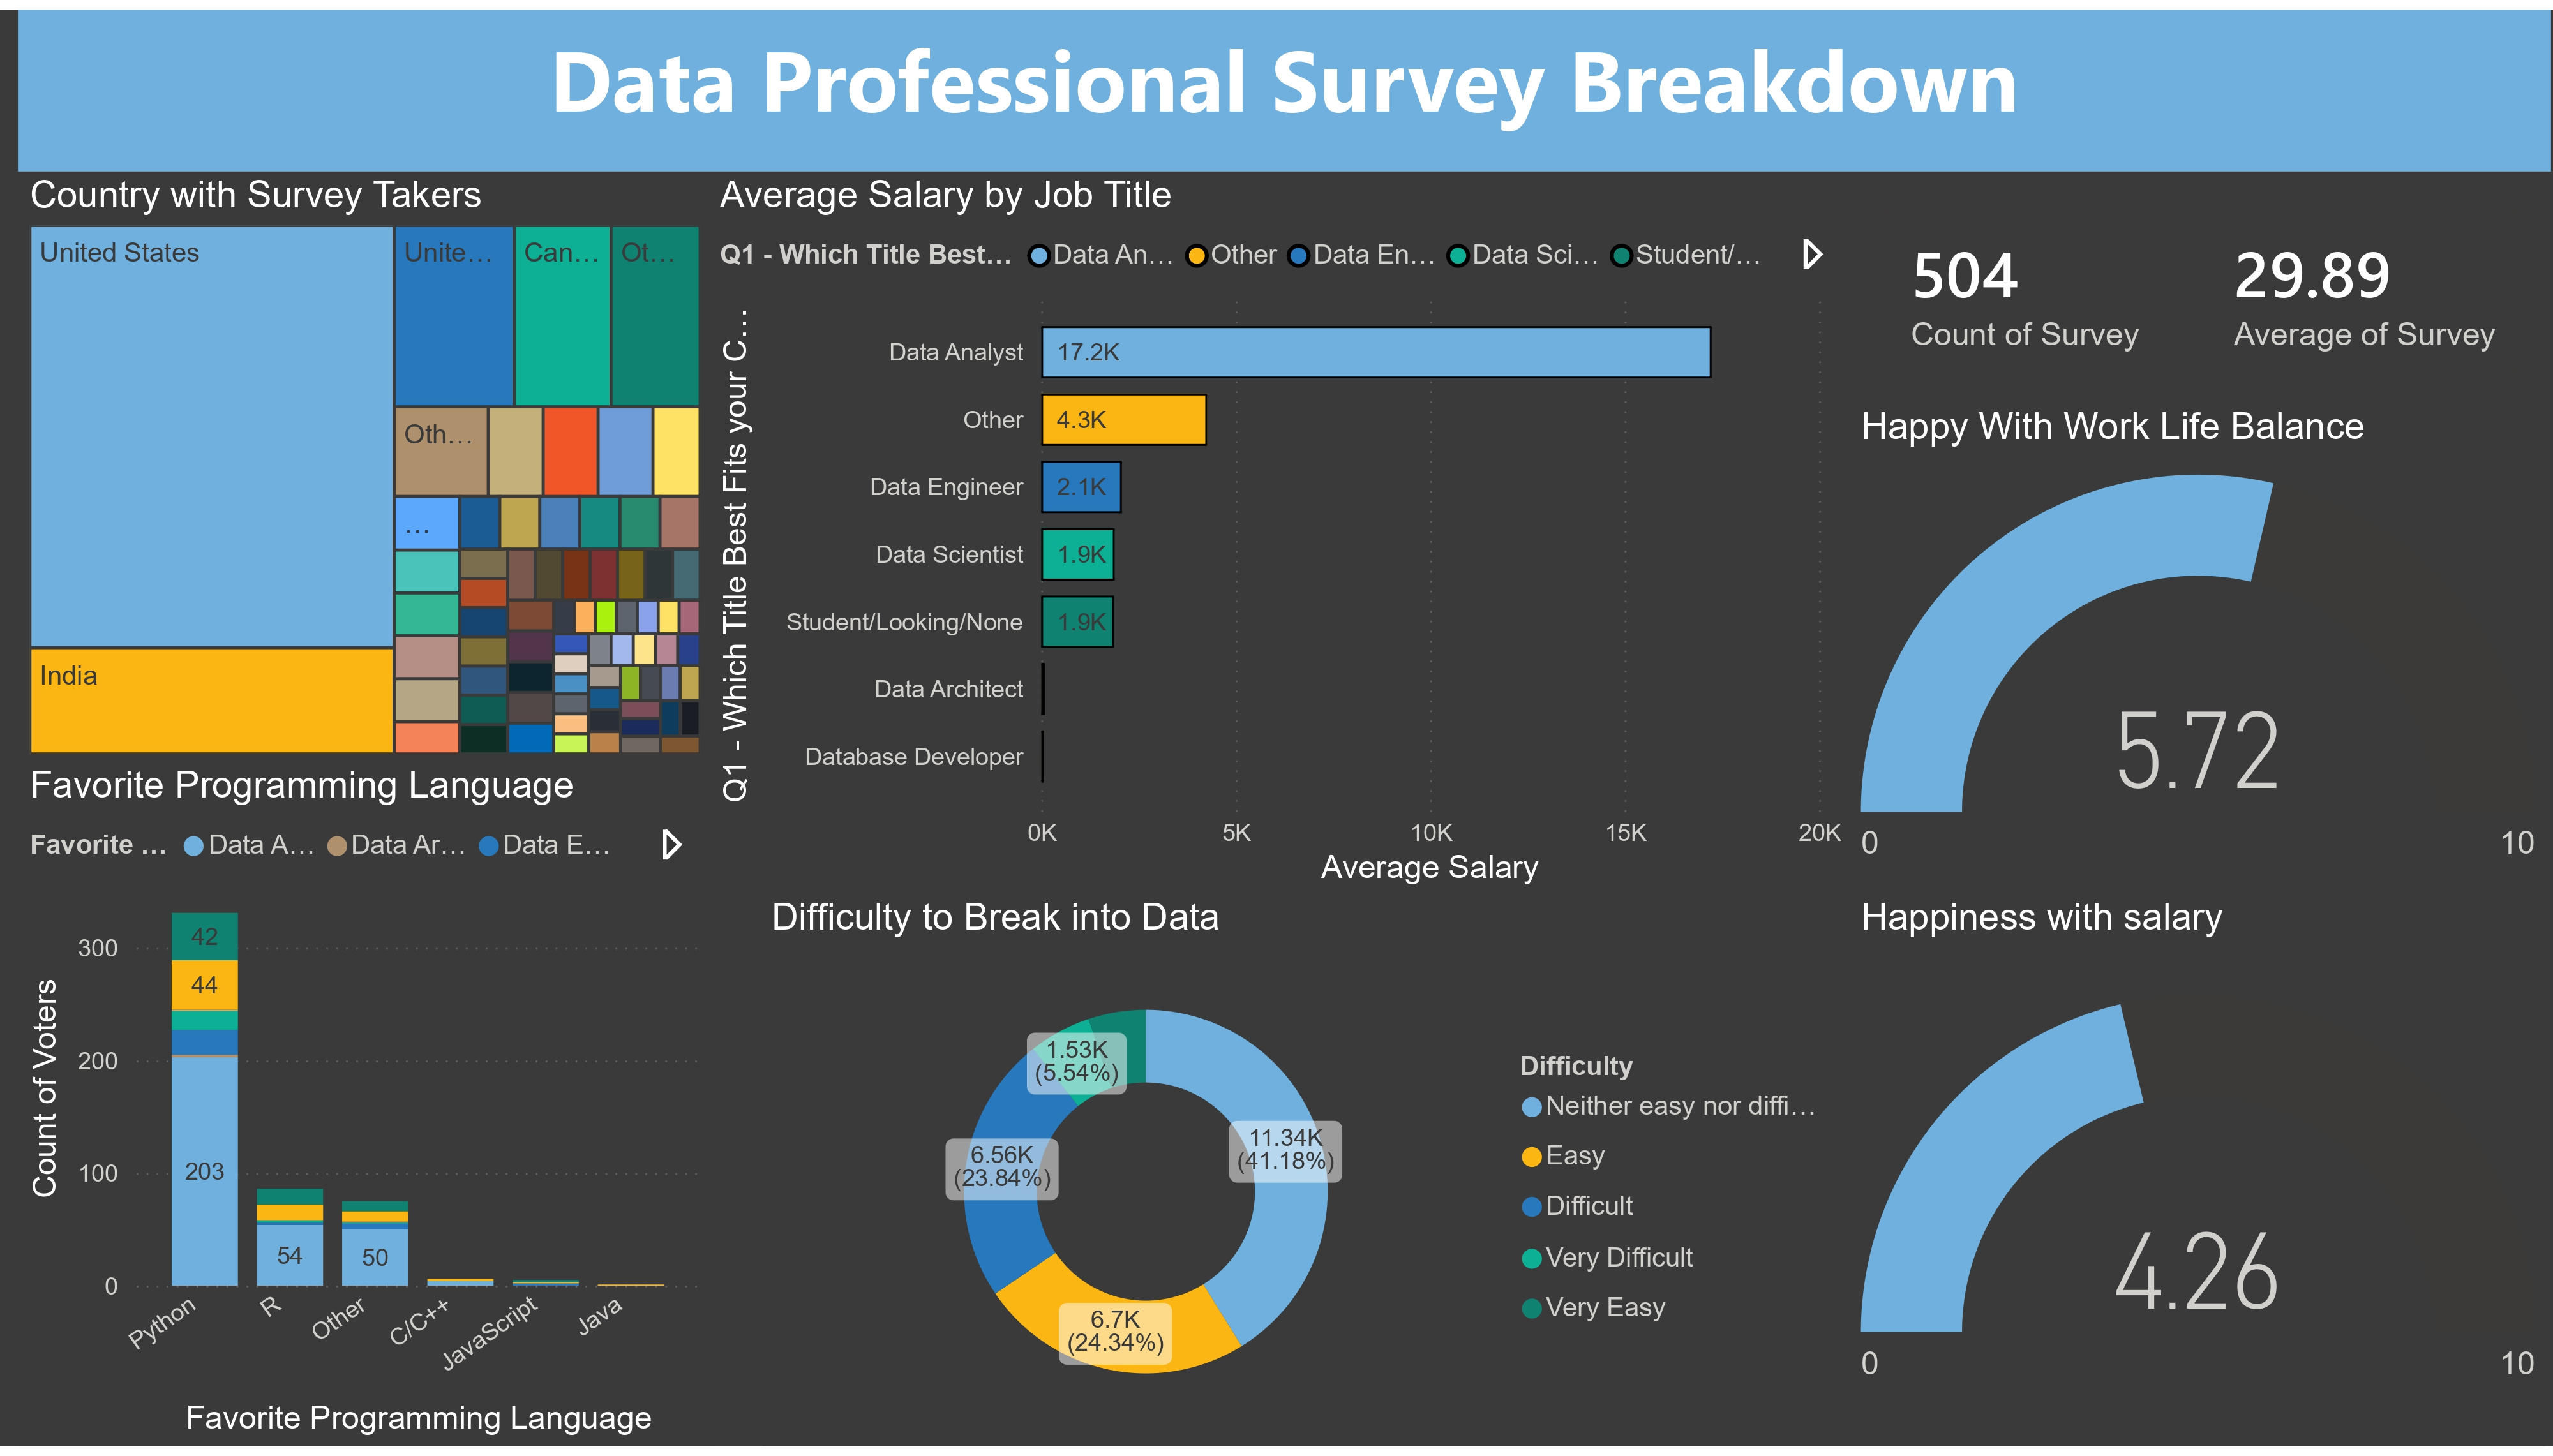

The page's visual inventory and layout, read from the dashboard file:
{"tool":"powerbi","page":{"name":"Page 1","canvas":[1280,720],"ordinal":0},"visuals":[{"type":"textbox","box":[9.4,0,1269.9,81.3],"z":0},{"type":"cardVisual","fields":{"Data":["CountNonNull(Data Professional Survey.Unique ID)"]},"box":[928,82,176,116],"z":1000},{"type":"cardVisual","fields":{"Data":["Avg(Data Professional Survey.Q10 - Current Age)"]},"box":[1090,82,190,116],"z":2000},{"type":"barChart","title":" Average Salary by Job Title","fields":{"Category":["Data Professional Survey.Q1 - Which Title Best Fits your Current Role?.1"],"Y":["Sum(Data Professional Survey.Average Salary)"],"Series":["Data Professional Survey.Q1 - Which Title Best Fits your Current Role?.1"]},"box":[356,82,572,362],"z":3000},{"type":"columnChart","title":"Favorite Programming Language","fields":{"Category":["Data Professional Survey.Q5 - Favorite Programming Language.1"],"Y":["CountNonNull(Data Professional Survey.Unique ID)"],"Series":["Data Professional Survey.Q1 - Which Title Best Fits your Current Role?.1"]},"box":[10,378,346,342],"z":4000},{"type":"treemap","title":"Country with Survey Takers","fields":{"Group":["Data Professional Survey.Q11 - Which Country do you live in?"],"Values":["CountNonNull(Data Professional Survey.Q11 - Which Country do you live in?)"]},"box":[10,82,346,296],"z":5000},{"type":"gauge","title":"Happy With Work Life Balance","fields":{"Y":["Avg(Data Professional Survey.Q6 - How Happy are you in your Current Position with the following? (Work/Life Balance))"],"MinValue":["Min(Data Professional Survey.Q6 - How Happy are you in your Current Position with the following? (Work/Life Balance))"],"MaxValue":["Max(Data Professional Survey.Q6 - How Happy are you in your Current Position with the following? (Work/Life Balance))1"]},"box":[928,198,348,246],"z":6000},{"type":"gauge","title":"Happiness with salary","fields":{"Y":["Avg(Data Professional Survey.Q6 - How Happy are you in your Current Position with the following? (Salary))"],"MinValue":["Min(Data Professional Survey.Q6 - How Happy are you in your Current Position with the following? (Salary))"],"MaxValue":["Max(Data Professional Survey.Q6 - How Happy are you in your Current Position with the following? (Salary))1"]},"box":[928,444,348,276],"z":7000},{"type":"donutChart","title":"Difficulty to Break into Data","fields":{"Category":["Data Professional Survey.Q7 - How difficult was it for you to break into Data?"],"Y":["Sum(Data Professional Survey.Average Salary)"]},"box":[382,444,546,276],"z":8000}]}

Visuals, with their boxes in screenshot pixels (x1, y1, x2, y2), scaled from the page's 1280x720 canvas onto the 2553x1456 screenshot:
textbox: bbox=[19, 0, 2552, 165]
cardVisual - CountNonNull(Data Professional Survey.Unique ID): bbox=[1851, 166, 2202, 401]
cardVisual - Avg(Data Professional Survey.Q10 - Current Age): bbox=[2174, 166, 2552, 401]
" Average Salary by Job Title" barChart: bbox=[710, 166, 1851, 898]
"Favorite Programming Language" columnChart: bbox=[20, 764, 710, 1455]
"Country with Survey Takers" treemap: bbox=[20, 166, 710, 764]
"Happy With Work Life Balance" gauge: bbox=[1851, 401, 2545, 898]
"Happiness with salary" gauge: bbox=[1851, 898, 2545, 1455]
"Difficulty to Break into Data" donutChart: bbox=[762, 898, 1851, 1455]
